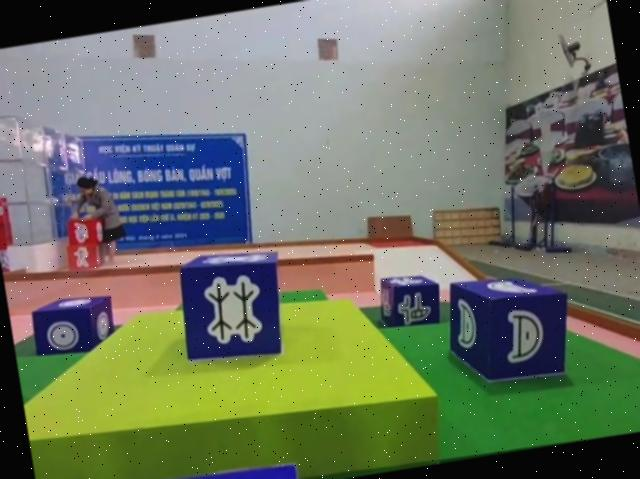R2 Real Blue: (439, 265, 578, 392), (171, 244, 293, 369), (28, 291, 119, 360), (372, 272, 442, 334)
